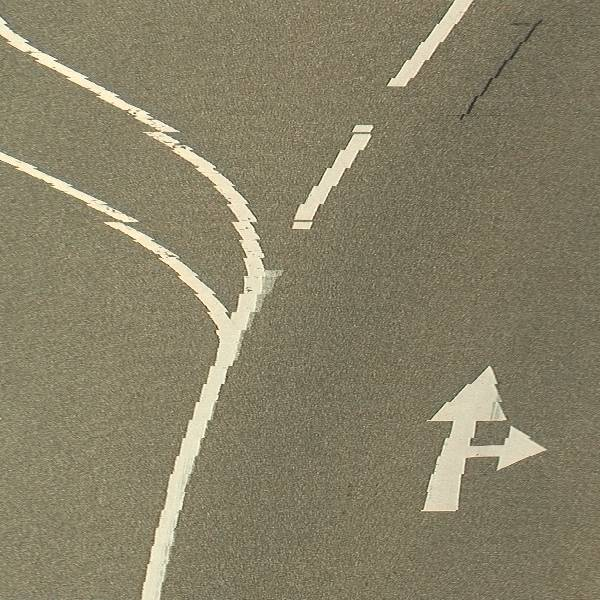road_damage: (449, 9, 596, 131)
